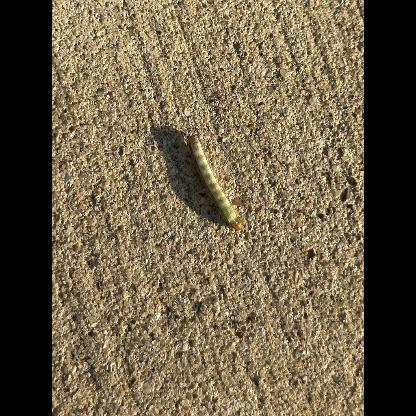Fall Armyworm Larvae: (185, 132, 247, 234)
